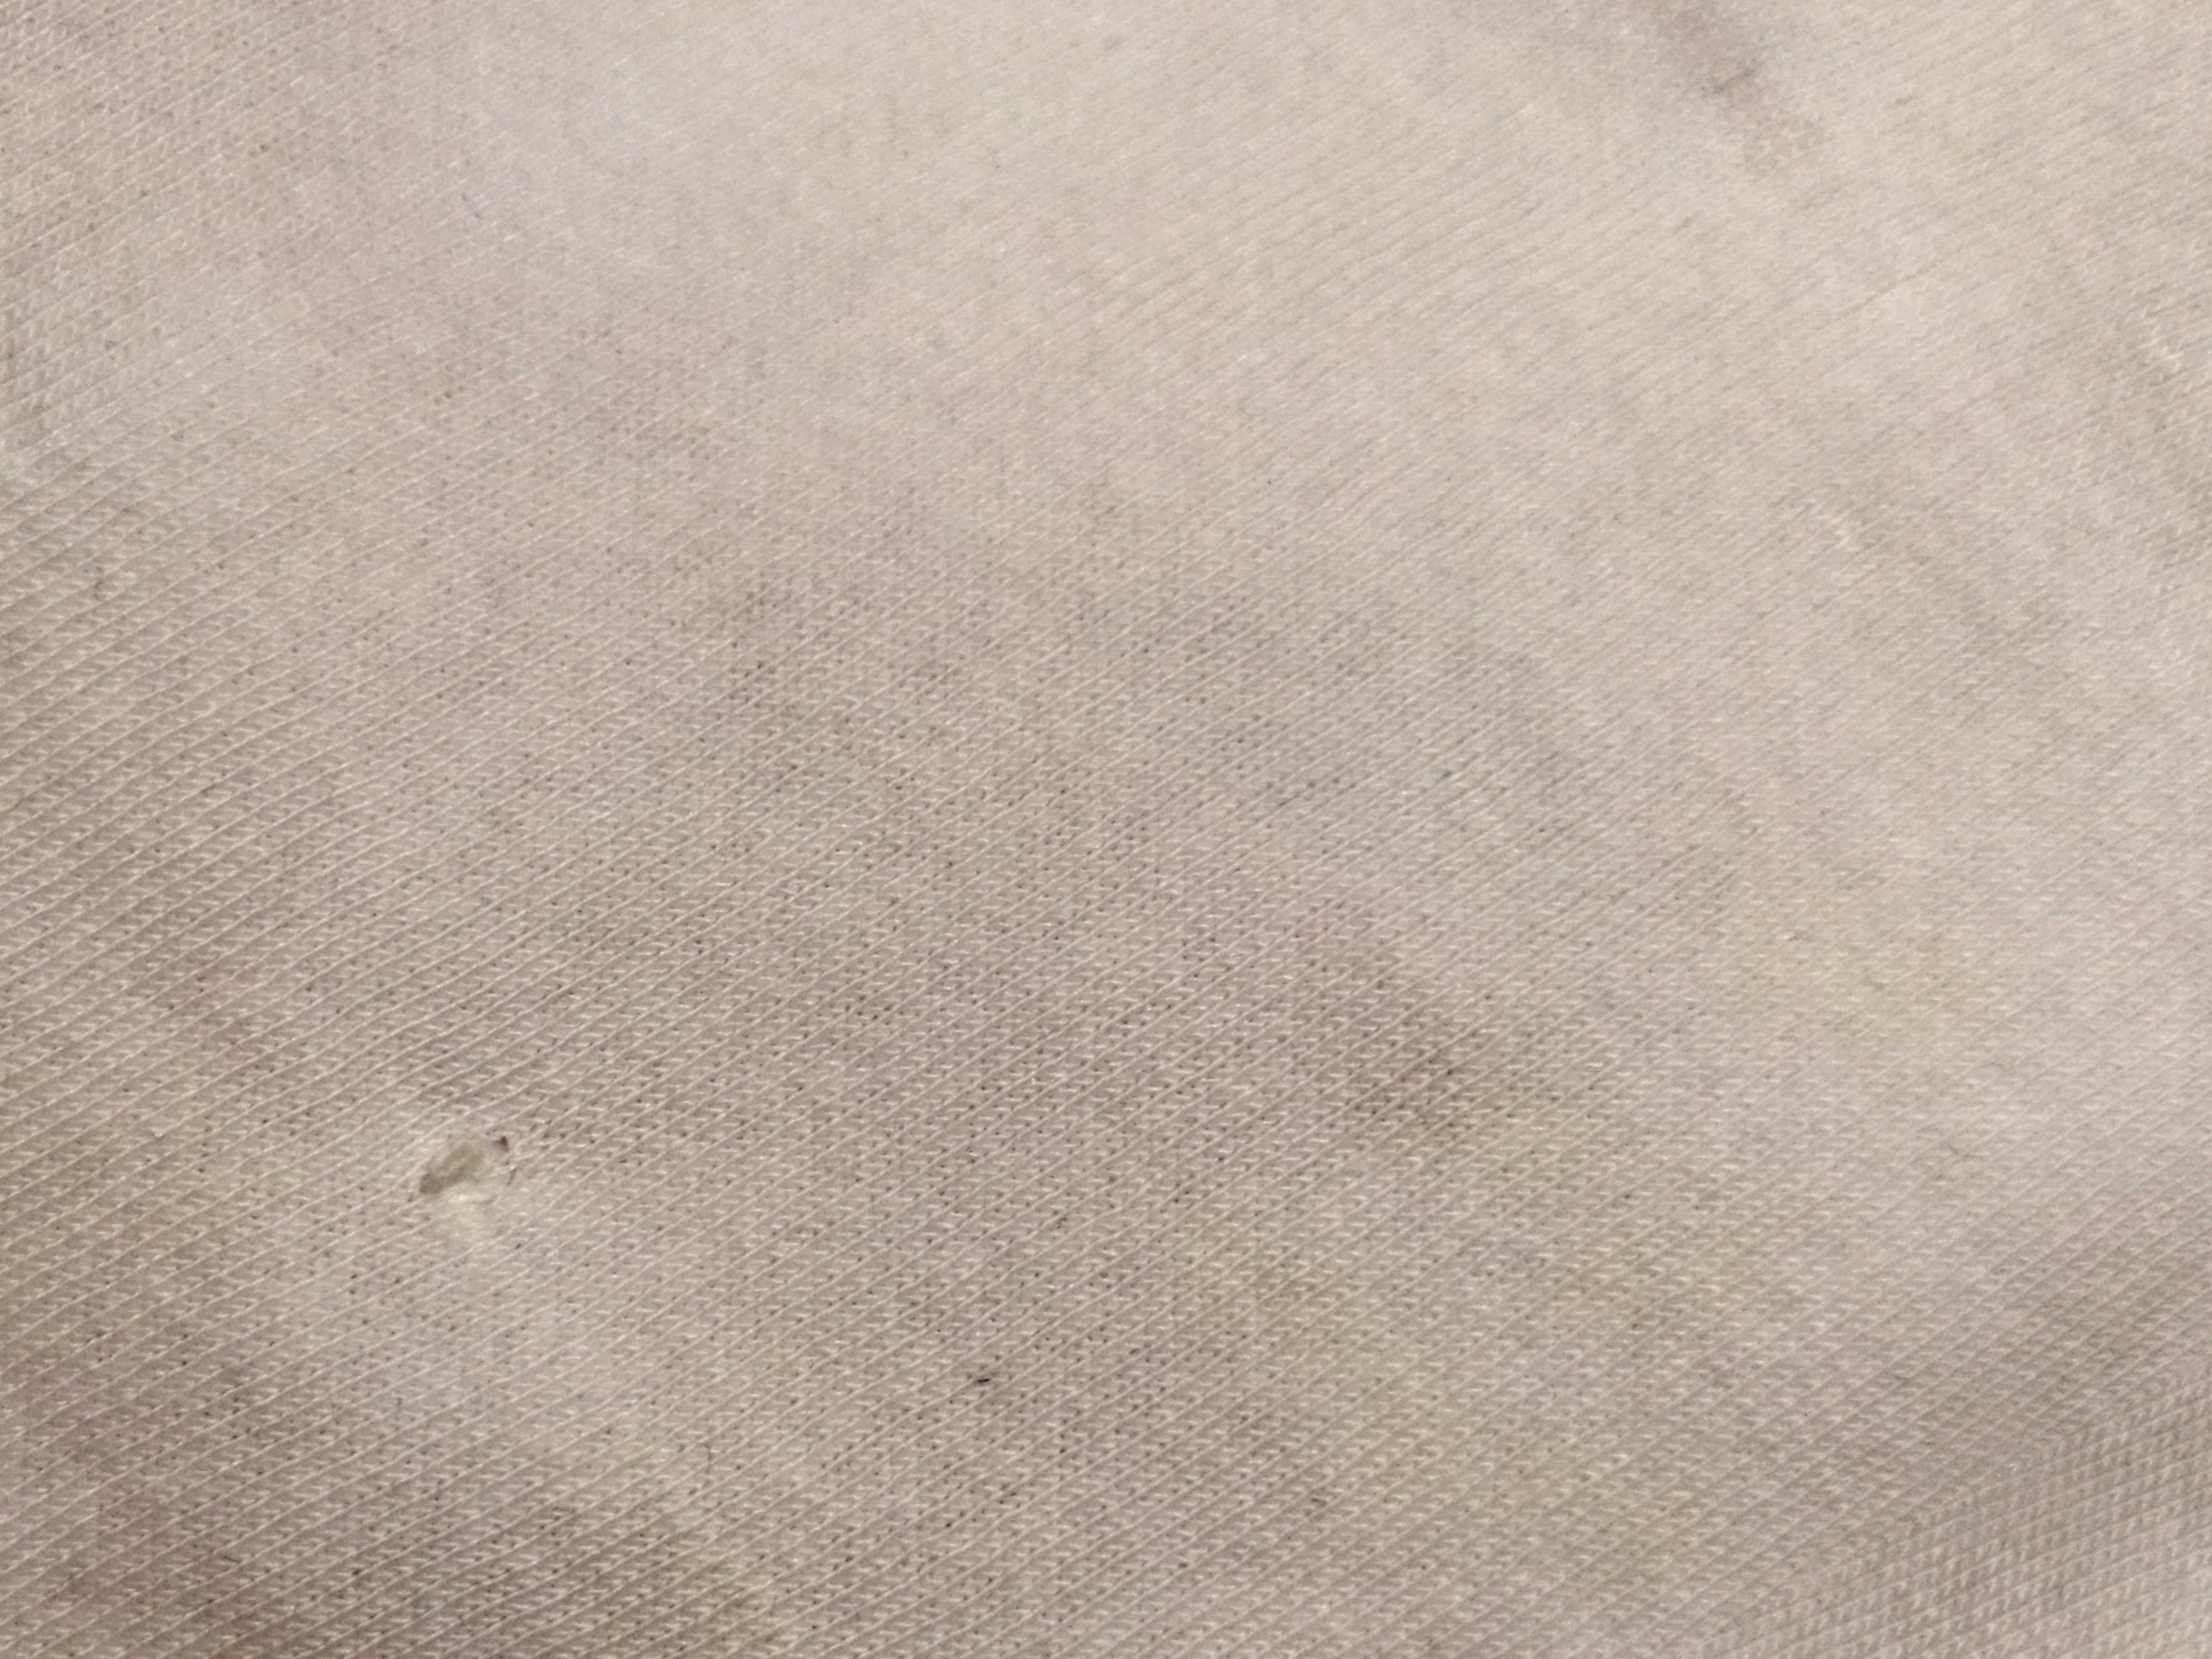knot: (385, 1098, 540, 1246)
